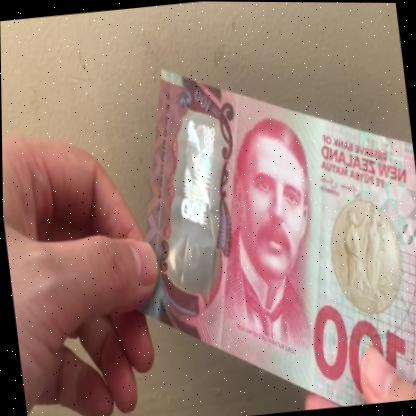100F: (155, 110, 234, 293)
